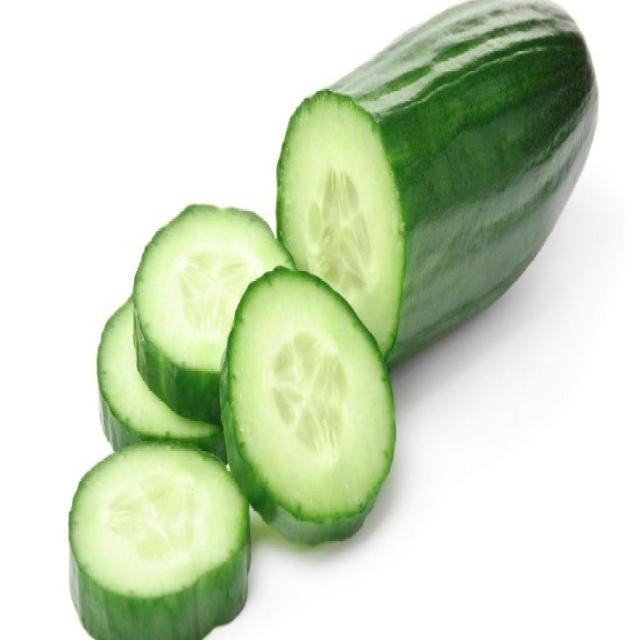cucumber: (66, 210, 390, 640), (269, 5, 595, 362)
